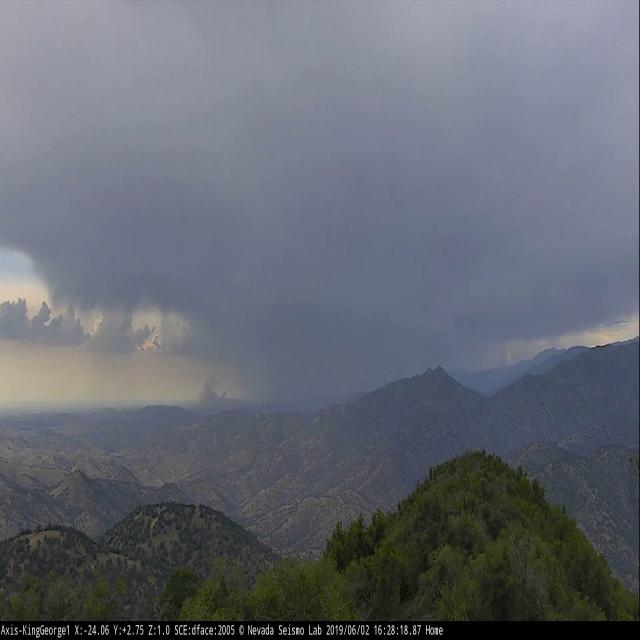smoke: (198, 374, 226, 403)
